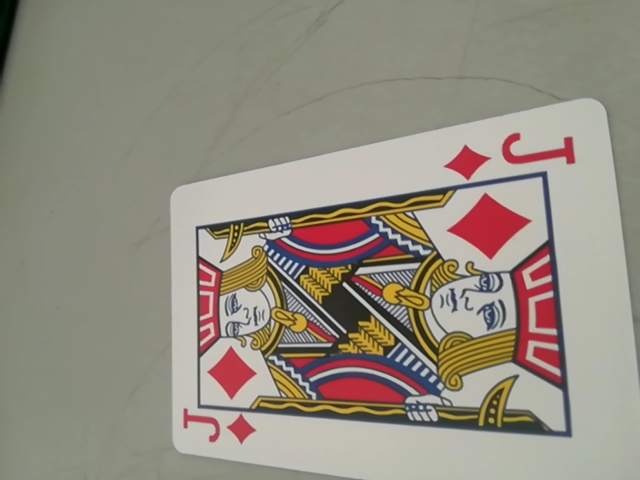fk j: (443, 124, 588, 183), (178, 409, 255, 456)
